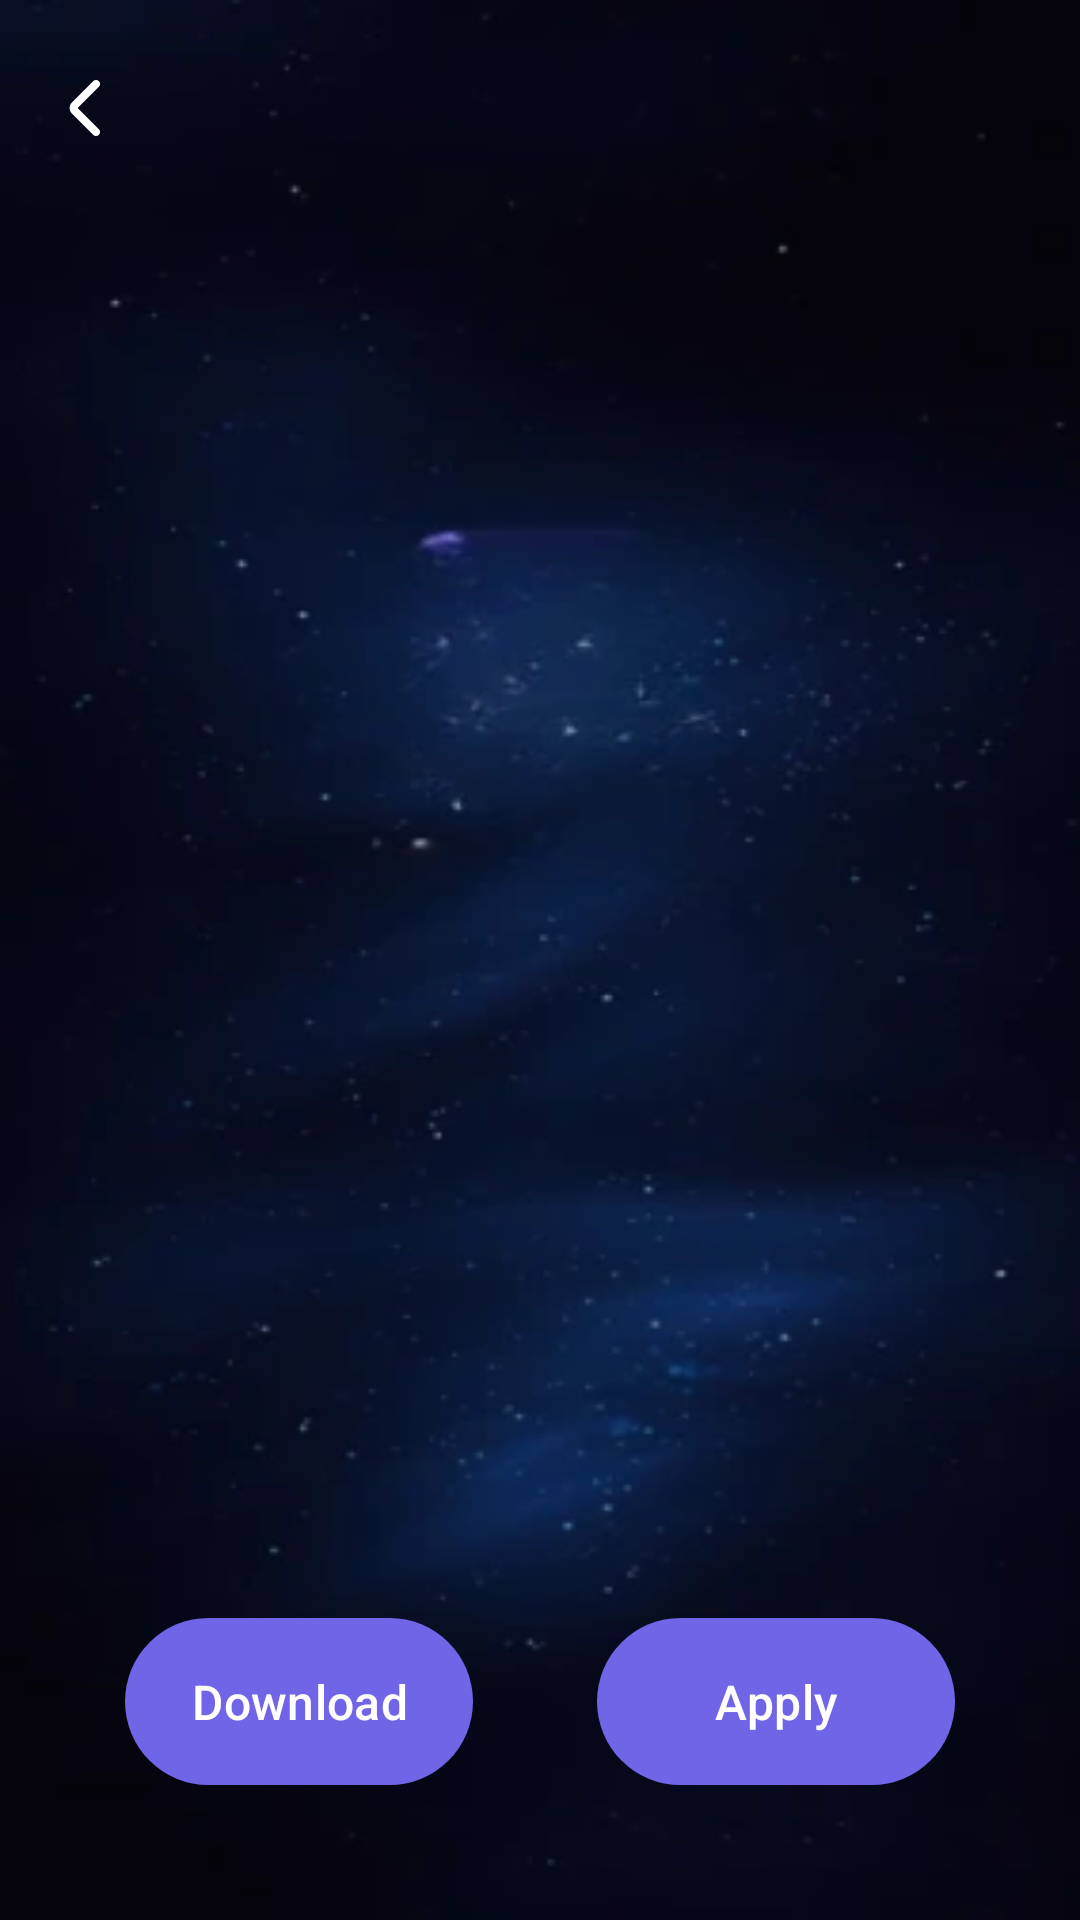

Screen size 1080*1920. Icon name, then its center in pixels as (x,y):
back: (84,108)
